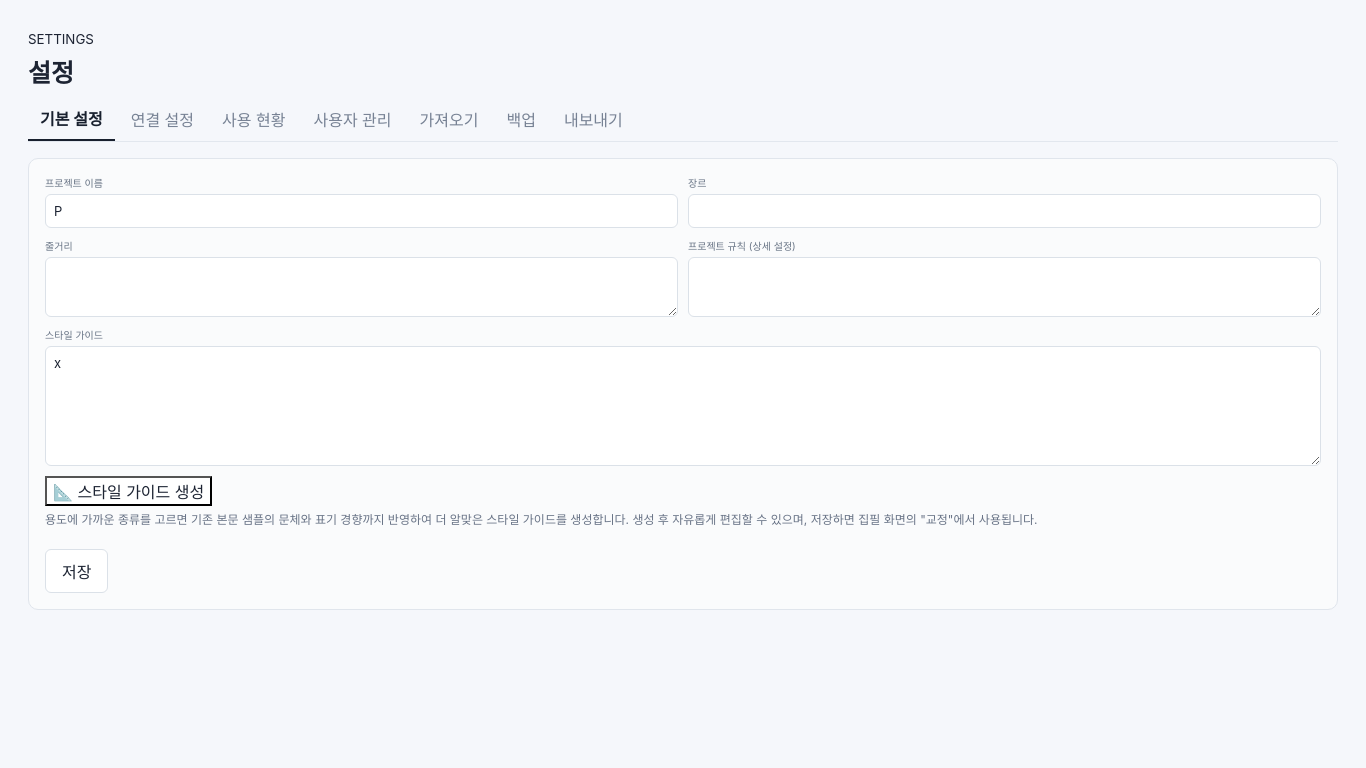
Test: SettingsPanel under a non-Japanese language › renders translated tabs and the style-guide picker in ko
expect the heading "설정" is shown: met, box top-left (28, 58), bottom-right (74, 88)
expect the button "연결 설정" is shown: met, box top-left (119, 97), bottom-right (206, 141)
Click the button "📐 스타일 가이드 생성": (129, 491) top-left (45, 476), bottom-right (212, 506)
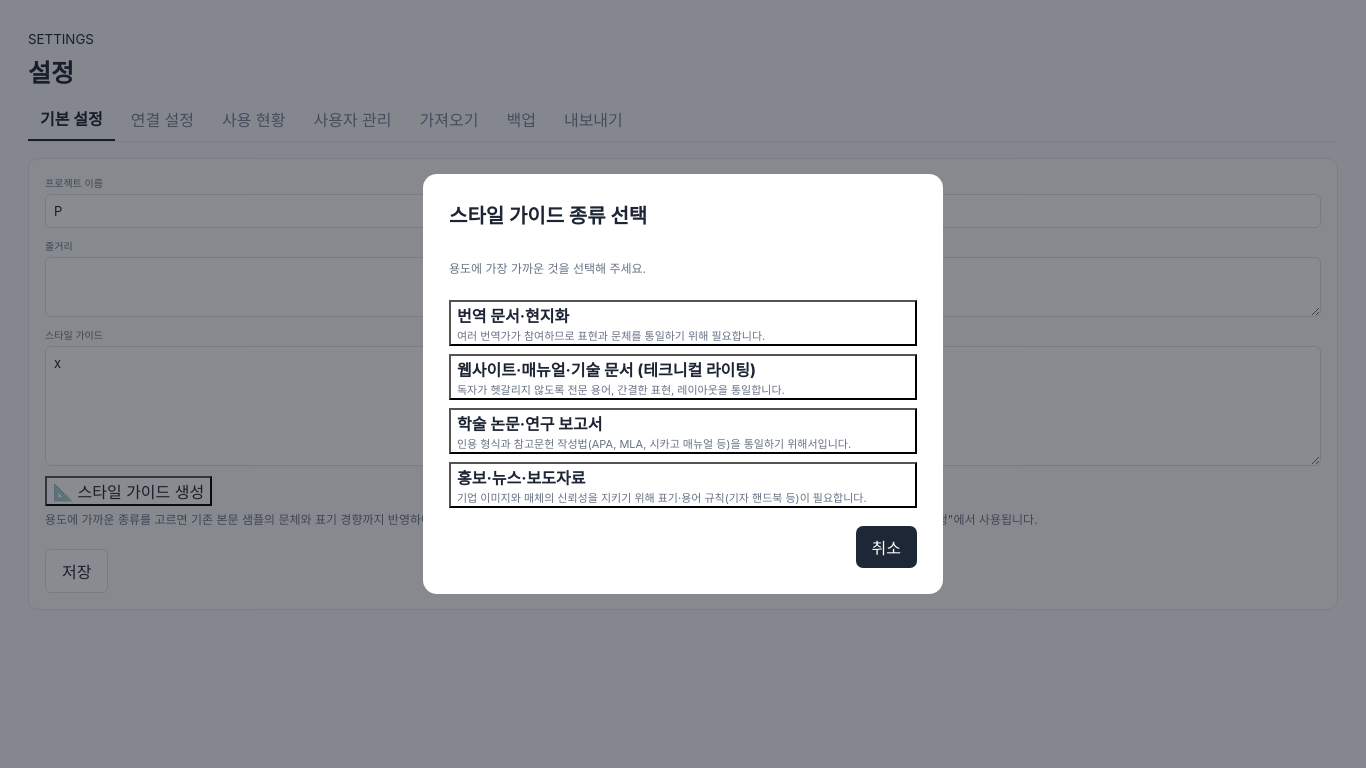
expect the heading "스타일 가이드 종류 선택" is shown: met, box top-left (449, 204), bottom-right (647, 228)
expect the text "홍보·뉴스·보도자료" is shown: met, box top-left (457, 468), bottom-right (586, 488)
